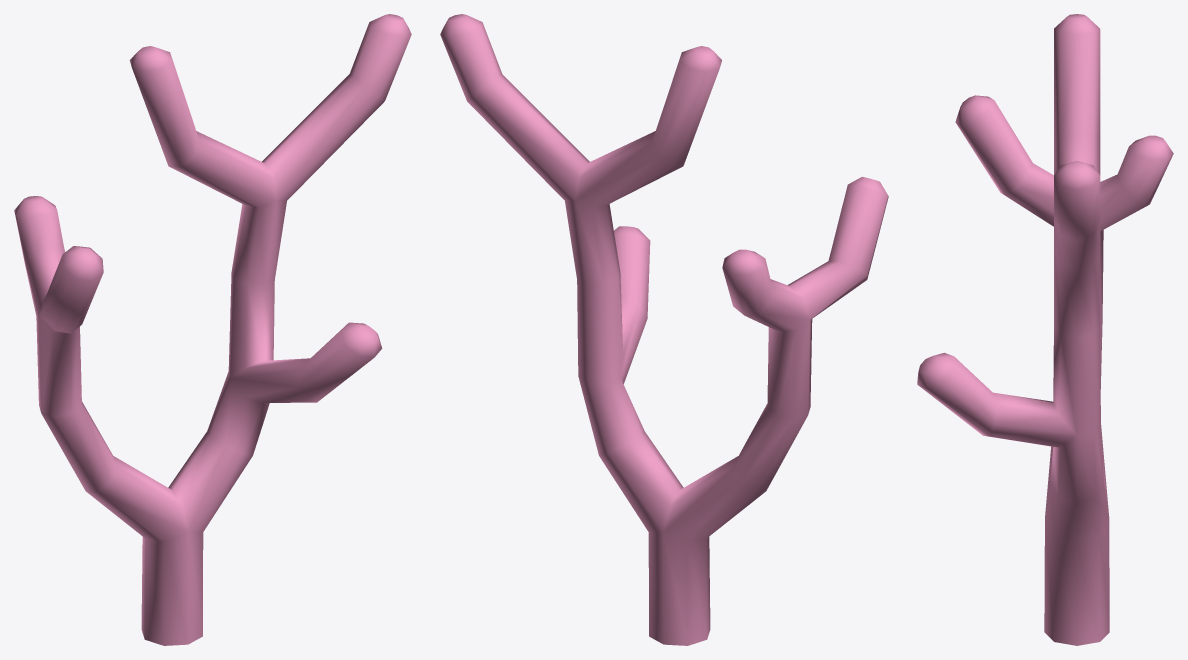
File: Sea_plant_1_1.002.fbx
The picture shows the model from 3 angles, left to right: view 1: azimuth 30°, elevation 25°; view 2: azimuth 150°, elevation 25°; view 3: azimuth 270°, elevation 25°; orthographic projection. The views are drawn at different scales.
Parts seen in each view (by area): view 1: Sea_plant_1_1.002; view 2: Sea_plant_1_1.002; view 3: Sea_plant_1_1.002.
Boxes of the visible parts, x1,y1,x2,y2 form: Sea_plant_1_1.002: [14, 14, 411, 645]; Sea_plant_1_1.002: [440, 14, 888, 645]; Sea_plant_1_1.002: [917, 14, 1173, 645].
Bounding box in the file's own units: 0.798 × 1.14 × 0.4372.
